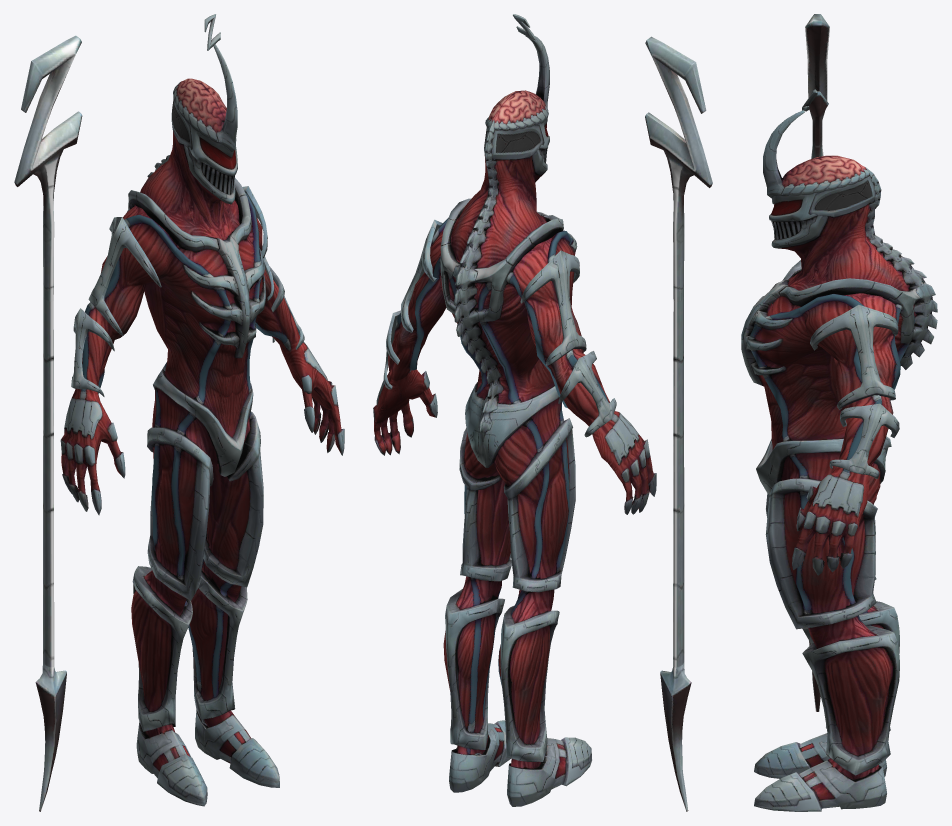
Rendered from LordZedd.obj.
3 views of the same model, side by side, from view 1: azimuth 30°, elevation 25°; view 2: azimuth 150°, elevation 25°; view 3: azimuth 270°, elevation 25° (orthographic). The views are drawn at different scales.
Visible parts, largest first — view 1: Zedd_S01_T1_lordZedd_msh; view 2: Zedd_S01_T1_lordZedd_msh; view 3: Zedd_S01_T1_lordZedd_msh.
Boxes of the visible parts, x1,y1,x2,y2 form: Zedd_S01_T1_lordZedd_msh: [14, 14, 344, 811]; Zedd_S01_T1_lordZedd_msh: [373, 14, 712, 811]; Zedd_S01_T1_lordZedd_msh: [741, 14, 937, 811].
Size of the model in its own units: 0.34 by 0.774 by 0.194.
Materials: 2 (2 with a texture image).
